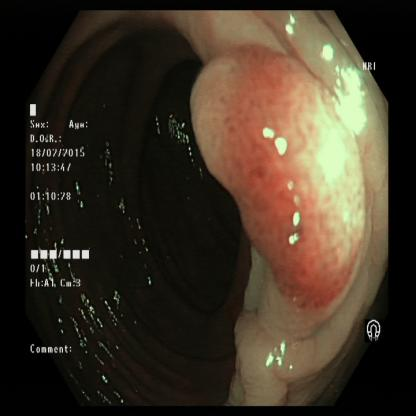Labels: (25, 97, 101, 367), (361, 304, 392, 351)
Polyps: (184, 42, 382, 303)
